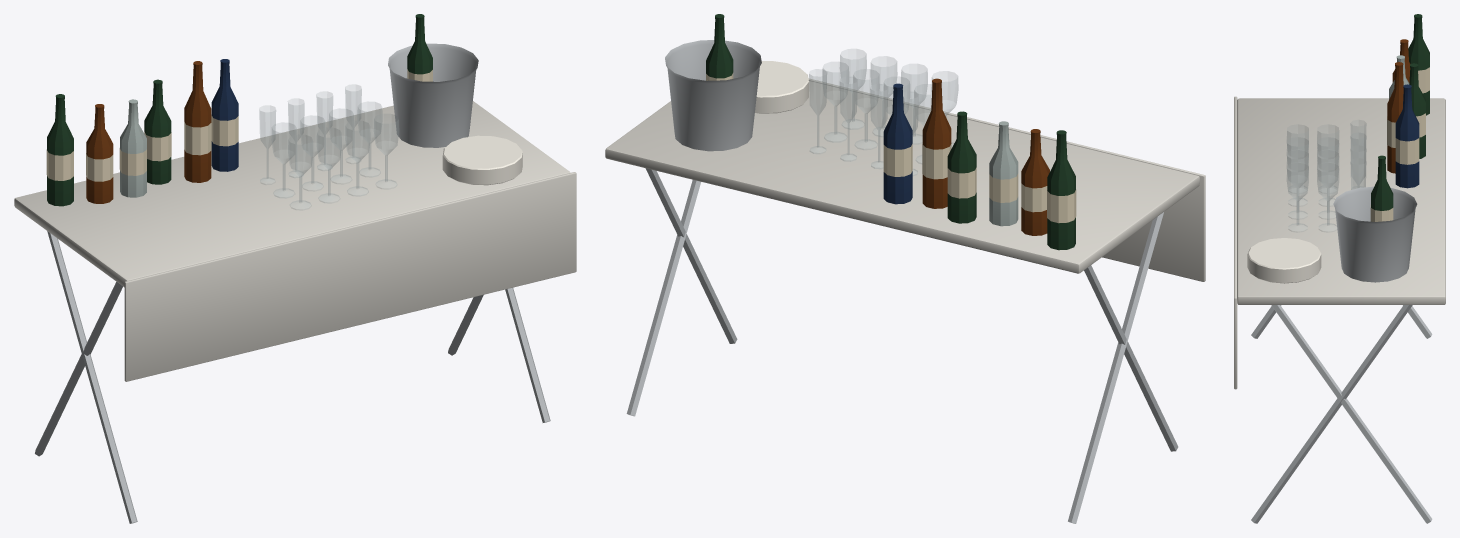
File: mae_drinks_table.glb
3 views of the same model, side by side, from view 1: azimuth 30°, elevation 25°; view 2: azimuth 150°, elevation 25°; view 3: azimuth 270°, elevation 25° (orthographic). The views are drawn at different scales.
Parts seen in each view (by area): view 1: mae_drinks_table; view 2: mae_drinks_table; view 3: mae_drinks_table.
Boxes of the visible parts, x1,y1,x2,y2 form: mae_drinks_table: (14, 14, 576, 523); mae_drinks_table: (605, 14, 1205, 523); mae_drinks_table: (1234, 14, 1445, 523).
Size of the model in its own units: 1.42 by 1.12 by 0.63.
